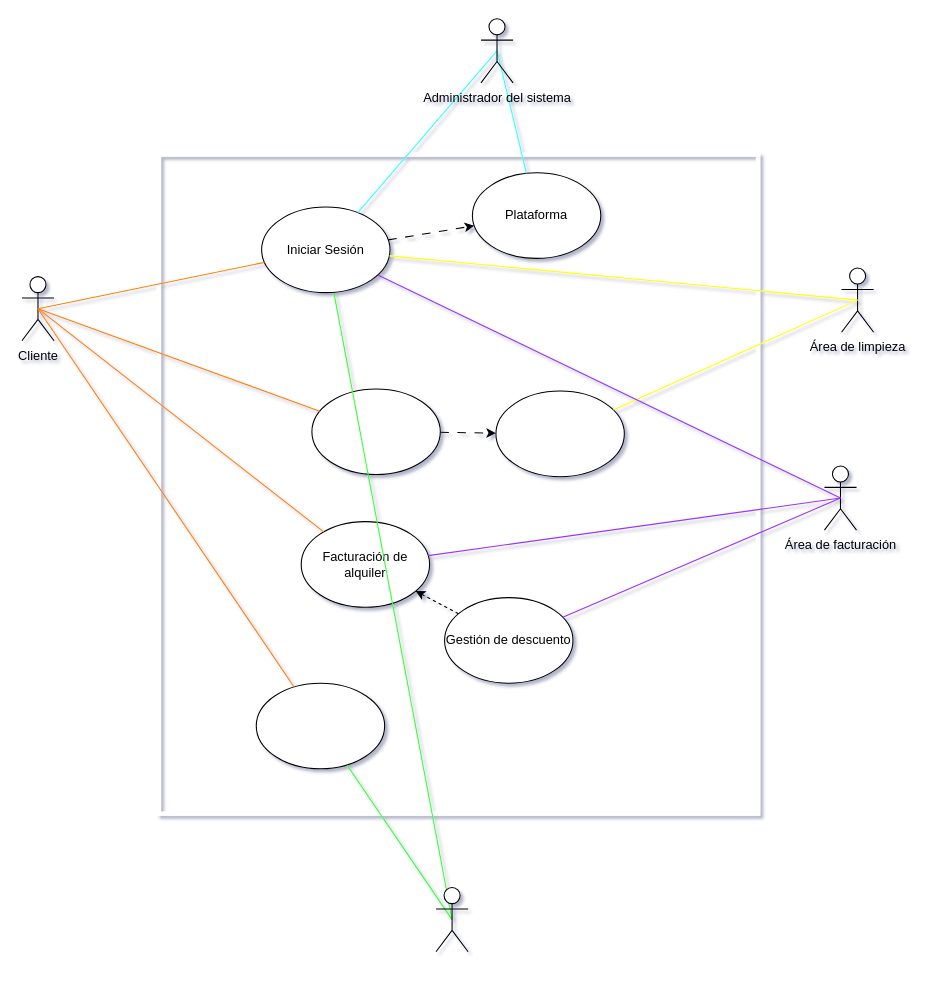
Some shapes in this 930 by 999 pixel diagram are drawn without their labels. Each missing label, with the box of its shape:
Encargado de despacho: (435, 886, 468, 952)
Gestión de despacho: (255, 682, 385, 769)
Solicitud de alquiler: (311, 388, 440, 475)
Solicitud de limpieza: (495, 390, 624, 477)
